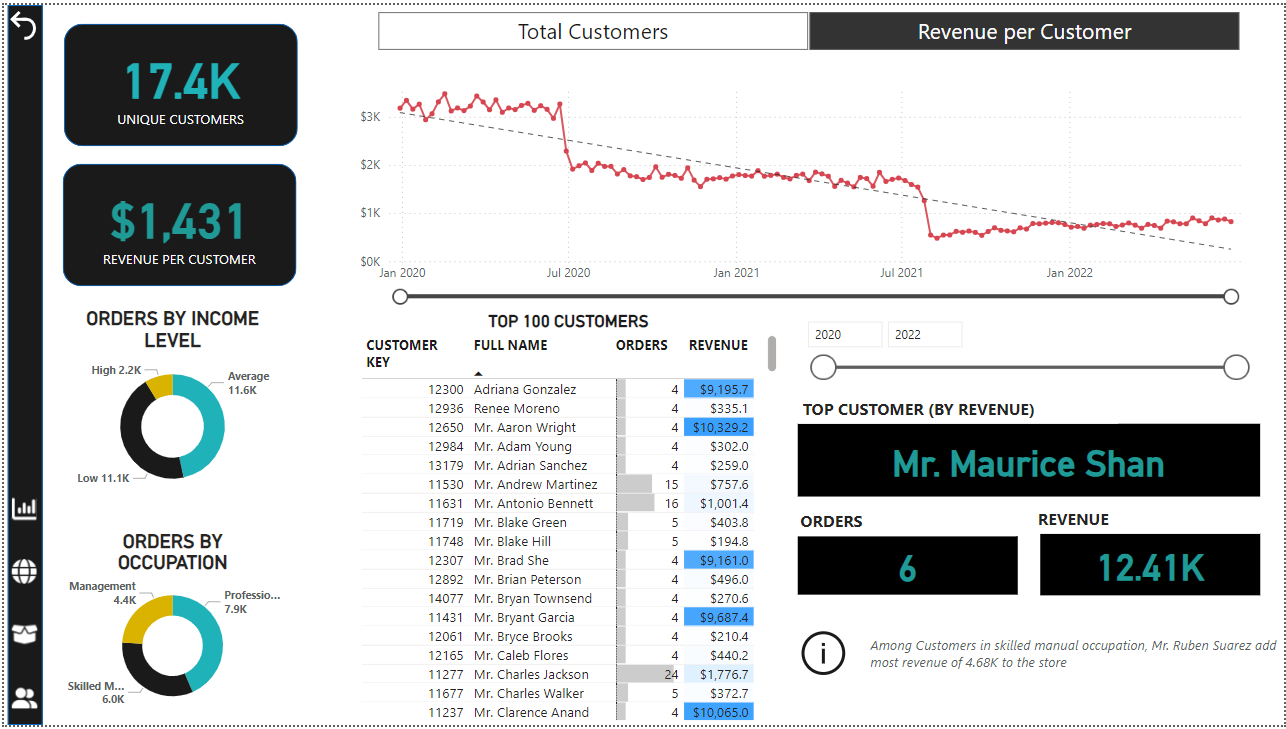

The page's visual inventory and layout, read from the dashboard file:
{"tool":"powerbi","page":{"name":"Customer Detail","canvas":[1280,720],"ordinal":1},"visuals":[{"type":"shape","box":[3.8,0,35,720],"z":0},{"type":"shape","box":[59.5,18.8,233.8,122.5],"z":1000},{"type":"shape","box":[58.5,158.8,233.8,122.5],"z":2000},{"type":"card","fields":{"Values":["Measure Table.Total Customers"]},"box":[74.5,11.2,203.8,136.2],"z":3000},{"type":"card","fields":{"Values":["Measure Table.Average Revenue per Customer"]},"box":[73.5,151.2,203.8,136.2],"z":4000},{"type":"lineChart","title":"Customer Trend","fields":{"Y":["Measure Table.Average Revenue per Customer"],"Category":["Calendar Lookup.Date Hierarchy.Start of Year","Calendar Lookup.Date Hierarchy.Start of Month","Calendar Lookup.Date Hierarchy.Start of Week","Calendar Lookup.Date Hierarchy.Date"]},"box":[351.2,72.5,905,230],"z":5000},{"type":"donutChart","title":"ORDERS BY INCOME LEVEL","fields":{"Category":["Customer Lookup.Income Level"],"Y":["Measure Table.Total Orders"]},"box":[60,302.5,217.5,195],"z":6000},{"type":"donutChart","title":"ORDERS BY OCCUPATION","fields":{"Y":["Measure Table.Total Orders"],"Category":["Customer Lookup.Occupation"]},"box":[60,525,217.5,188.8],"z":7000},{"type":"tableEx","title":"TOP 100 CUSTOMERS","fields":{"Values":["Customer Lookup.CustomerKey","Customer Lookup.Full Name","Measure Table.Total Orders","Measure Table.Total Revenue"]},"box":[351.2,306.2,426.2,413.8],"z":8000},{"type":"card","fields":{"Values":["Measure Table.Full Name (HasOneValue)"]},"box":[793.8,419,462.5,72.5],"z":9000},{"type":"textbox","box":[793.8,387.8,320,31.2],"z":10000},{"type":"card","fields":{"Values":["Measure Table.Orders (HasOneValue)"]},"box":[793.8,531.5,220,58.8],"z":11000},{"type":"textbox","box":[791.2,500.3,220,31.2],"z":12000},{"type":"card","fields":{"Values":["Measure Table.Revenue (HasOneValue)"]},"box":[1036.2,529,220,61.2],"z":13000},{"type":"textbox","box":[1028.2,497.2,227.5,31.2],"z":14000},{"type":"slicer","fields":{"Values":["Calendar Lookup.Year"]},"box":[791.2,306.2,462.5,77.5],"z":15000},{"type":"actionButton","box":[791.2,620,488.8,56.2],"z":16000},{"type":"actionButton","box":[0,0,38.8,40],"z":17000},{"type":"actionButton","box":[3.8,487.9,35,32.9],"z":18000},{"type":"actionButton","box":[3.8,550.4,35,32.9],"z":19000},{"type":"actionButton","box":[3.8,612.9,35,33.8],"z":20000},{"type":"actionButton","box":[3.8,676.2,35,33.8],"z":21000},{"type":"slicer","fields":{"Values":["Customer Metric Selection.Customer Metric Selection"]},"box":[351.2,0,905,48.8],"z":22000}]}

Visuals, with their boxes on the page's 1280x720 design canvas (x1, y1, x2, y2). These are canvas units, not pixel positions in the 1286x729 screenshot, which may show the page scaled, cropped or inside an application window:
shape: region(4, 0, 39, 720)
shape: region(60, 19, 293, 141)
shape: region(58, 159, 292, 281)
card - Measure Table.Total Customers: region(74, 11, 278, 147)
card - Measure Table.Average Revenue per Customer: region(74, 151, 277, 287)
"Customer Trend" lineChart: region(351, 72, 1256, 302)
"ORDERS BY INCOME LEVEL" donutChart: region(60, 302, 278, 498)
"ORDERS BY OCCUPATION" donutChart: region(60, 525, 278, 714)
"TOP 100 CUSTOMERS" tableEx: region(351, 306, 777, 720)
card - Measure Table.Full Name (HasOneValue): region(794, 419, 1256, 492)
textbox: region(794, 388, 1114, 419)
card - Measure Table.Orders (HasOneValue): region(794, 532, 1014, 590)
textbox: region(791, 500, 1011, 532)
card - Measure Table.Revenue (HasOneValue): region(1036, 529, 1256, 590)
textbox: region(1028, 497, 1256, 528)
slicer - Calendar Lookup.Year: region(791, 306, 1254, 384)
actionButton: region(791, 620, 1280, 676)
actionButton: region(0, 0, 39, 40)
actionButton: region(4, 488, 39, 521)
actionButton: region(4, 550, 39, 583)
actionButton: region(4, 613, 39, 647)
actionButton: region(4, 676, 39, 710)
slicer - Customer Metric Selection.Customer Metric Selection: region(351, 0, 1256, 49)
